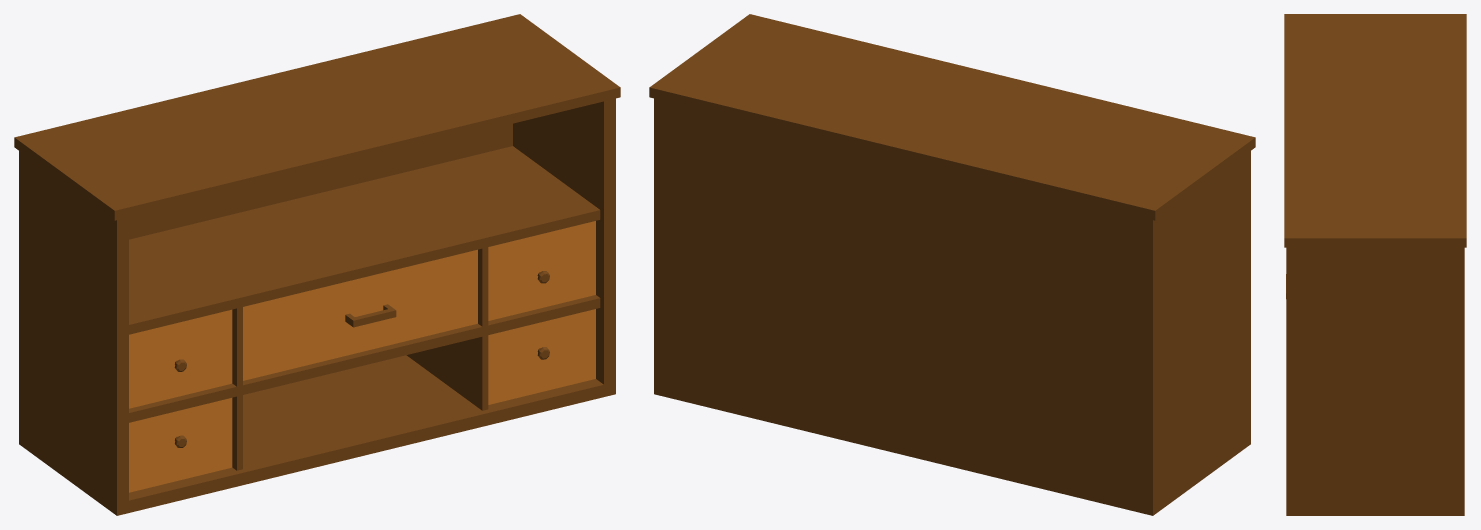
The model's file is Laci 1.fbx.
3 views of the same model, side by side, from view 1: azimuth 30°, elevation 25°; view 2: azimuth 150°, elevation 25°; view 3: azimuth 270°, elevation 25° (orthographic). The views are drawn at different scales.
Parts seen in each view (by area): view 1: jendela.007; view 2: jendela.007; view 3: jendela.007.
Part boxes in pixels (x1,y1,x2,y2): jendela.007: [14, 14, 620, 515]; jendela.007: [649, 14, 1255, 515]; jendela.007: [1284, 14, 1466, 515].
Bounding box in the file's own units: 1603 × 929 × 551.
